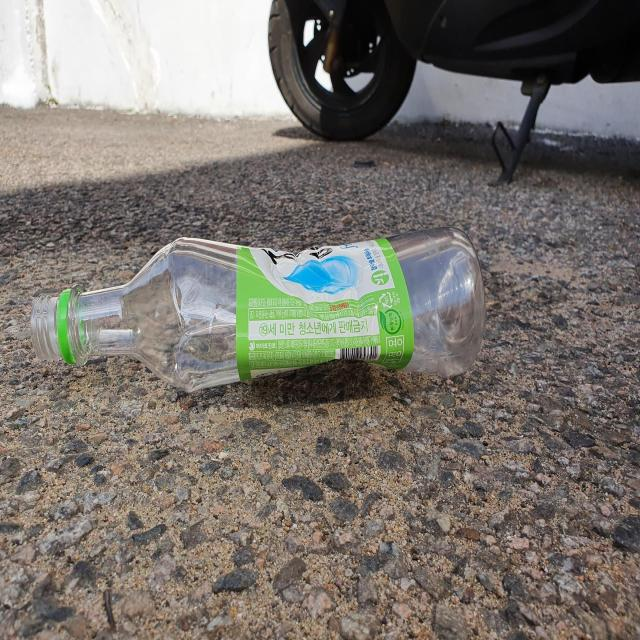plastic: (29, 227, 486, 392)
